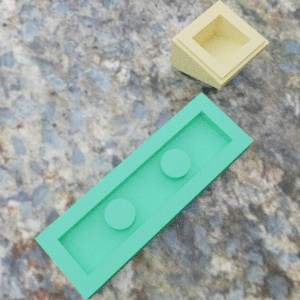lego: (34, 92, 253, 299), (169, 0, 269, 89)
